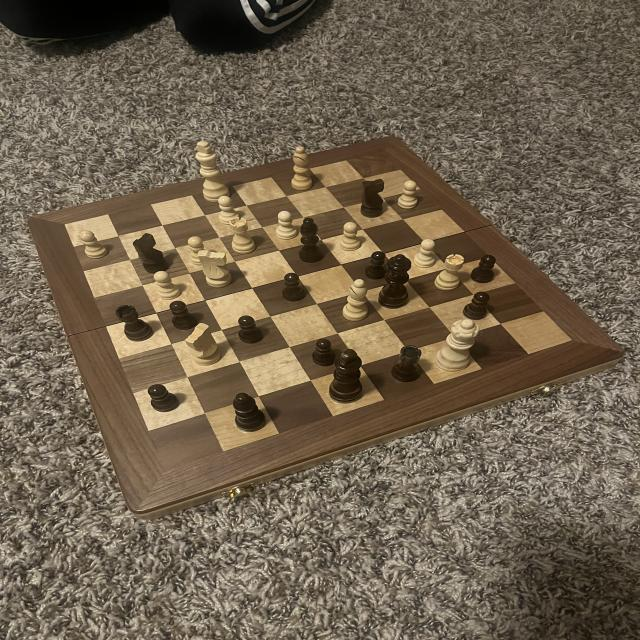bishop: (230, 392, 269, 434), (296, 218, 328, 264)
black-bishop: (326, 346, 370, 406)
black-king: (129, 232, 173, 274), (355, 177, 390, 218)
black-knight: (166, 299, 198, 335), (145, 384, 183, 414), (468, 253, 502, 285), (461, 292, 497, 322), (234, 315, 266, 346), (280, 273, 312, 304), (362, 249, 390, 281), (312, 336, 336, 367)
black-pawn: (376, 253, 418, 313)
black-queen: (112, 304, 157, 344), (387, 344, 425, 386)
black-rook: (340, 278, 375, 323), (286, 145, 318, 193)
white-bishop: (193, 140, 234, 203)
white-king: (182, 322, 225, 367), (196, 248, 238, 288)
white-knight: (78, 228, 111, 262), (151, 268, 183, 302), (272, 207, 302, 242), (392, 178, 422, 212), (184, 235, 214, 267), (337, 220, 365, 252), (412, 237, 439, 270), (215, 195, 239, 223)
white-pawn: (436, 316, 481, 373)
white-queen: (431, 253, 469, 294), (226, 216, 259, 254)
